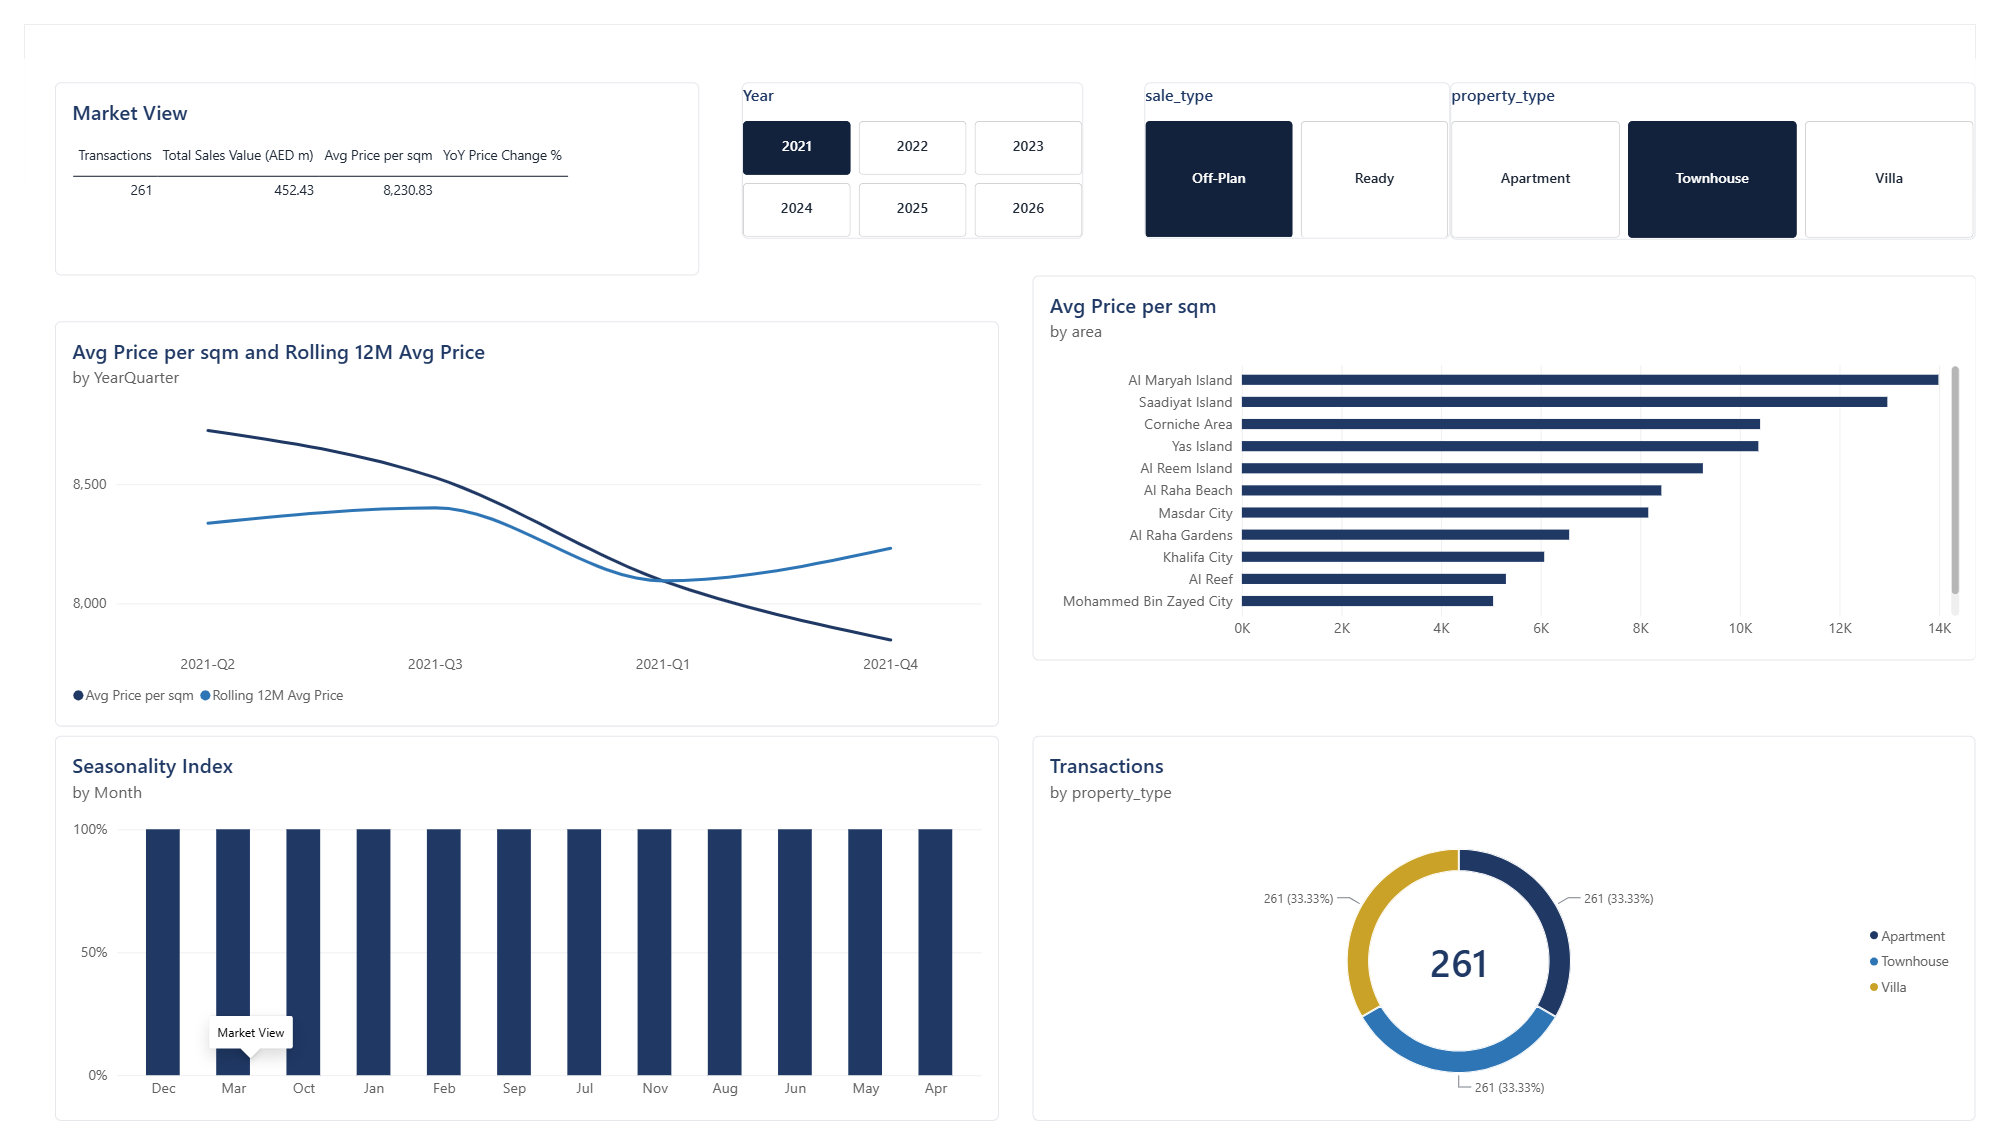

The dashboard page shown, as its layout file describes it:
{"tool":"powerbi","page":{"name":"Market View","canvas":[1920,1080],"ordinal":0},"visuals":[{"type":"tableEx","title":"Market View","fields":{"Values":["_Measures.Transactions","_Measures.Total Sales Value (AED m)","_Measures.Avg Price per sqm","_Measures.YoY Price Change %"]},"box":[29.8,56.6,634.4,190.6],"z":0},{"type":"lineChart","fields":{"Category":["DimDate.YearQuarter"],"Y":["_Measures.Avg Price per sqm","_Measures.Rolling 12M Avg Price"]},"box":[29.8,291.9,929.2,399.1],"z":1},{"type":"clusteredBarChart","fields":{"Category":["DimArea.area"],"Y":["_Measures.Avg Price per sqm"]},"box":[991.8,247.2,929,379],"z":2},{"type":"hundredPercentStackedColumnChart","fields":{"Category":["DimDate.Month"],"Y":["_Measures.Seasonality Index"]},"box":[29.8,699.9,929,379],"z":3},{"type":"donutChart","fields":{"Category":["rentals_clean.property_type"],"Y":["_Measures.Transactions"]},"box":[992,700,928,379],"z":4},{"type":"advancedSlicerVisual","fields":{"Values":["DimDate.Year"]},"box":[705.9,56.6,336.6,154.9],"z":5},{"type":"advancedSlicerVisual","fields":{"Values":["sales_clean.sale_type"]},"box":[1102,56.6,300.8,154.9],"z":6},{"type":"advancedSlicerVisual","fields":{"Values":["sales_clean.property_type"]},"box":[1403,57,517,155],"z":7}]}

Visuals, with their boxes in screenshot pixels (x1, y1, x2, y2), scaled from the page's 1920x1080 canvas onto the 2000x1146 screenshot:
"Market View" tableEx: 31 60 692 262
lineChart - DimDate.YearQuarter x _Measures.Avg Price per sqm: 31 310 999 733
clusteredBarChart - DimArea.area x _Measures.Avg Price per sqm: 1033 262 1999 664
hundredPercentStackedColumnChart - DimDate.Month x _Measures.Seasonality Index: 31 743 999 1145
donutChart - rentals_clean.property_type x _Measures.Transactions: 1033 743 1999 1145
advancedSlicerVisual - DimDate.Year: 735 60 1086 224
advancedSlicerVisual - sales_clean.sale_type: 1148 60 1461 224
advancedSlicerVisual - sales_clean.property_type: 1461 60 1999 225
